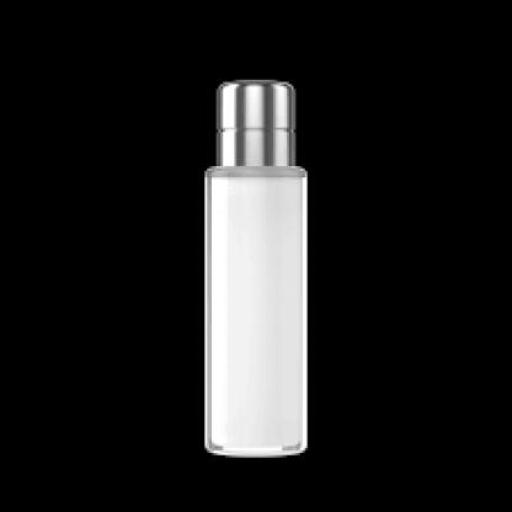glass: (198, 162, 305, 456)
metal: (212, 78, 291, 166)
